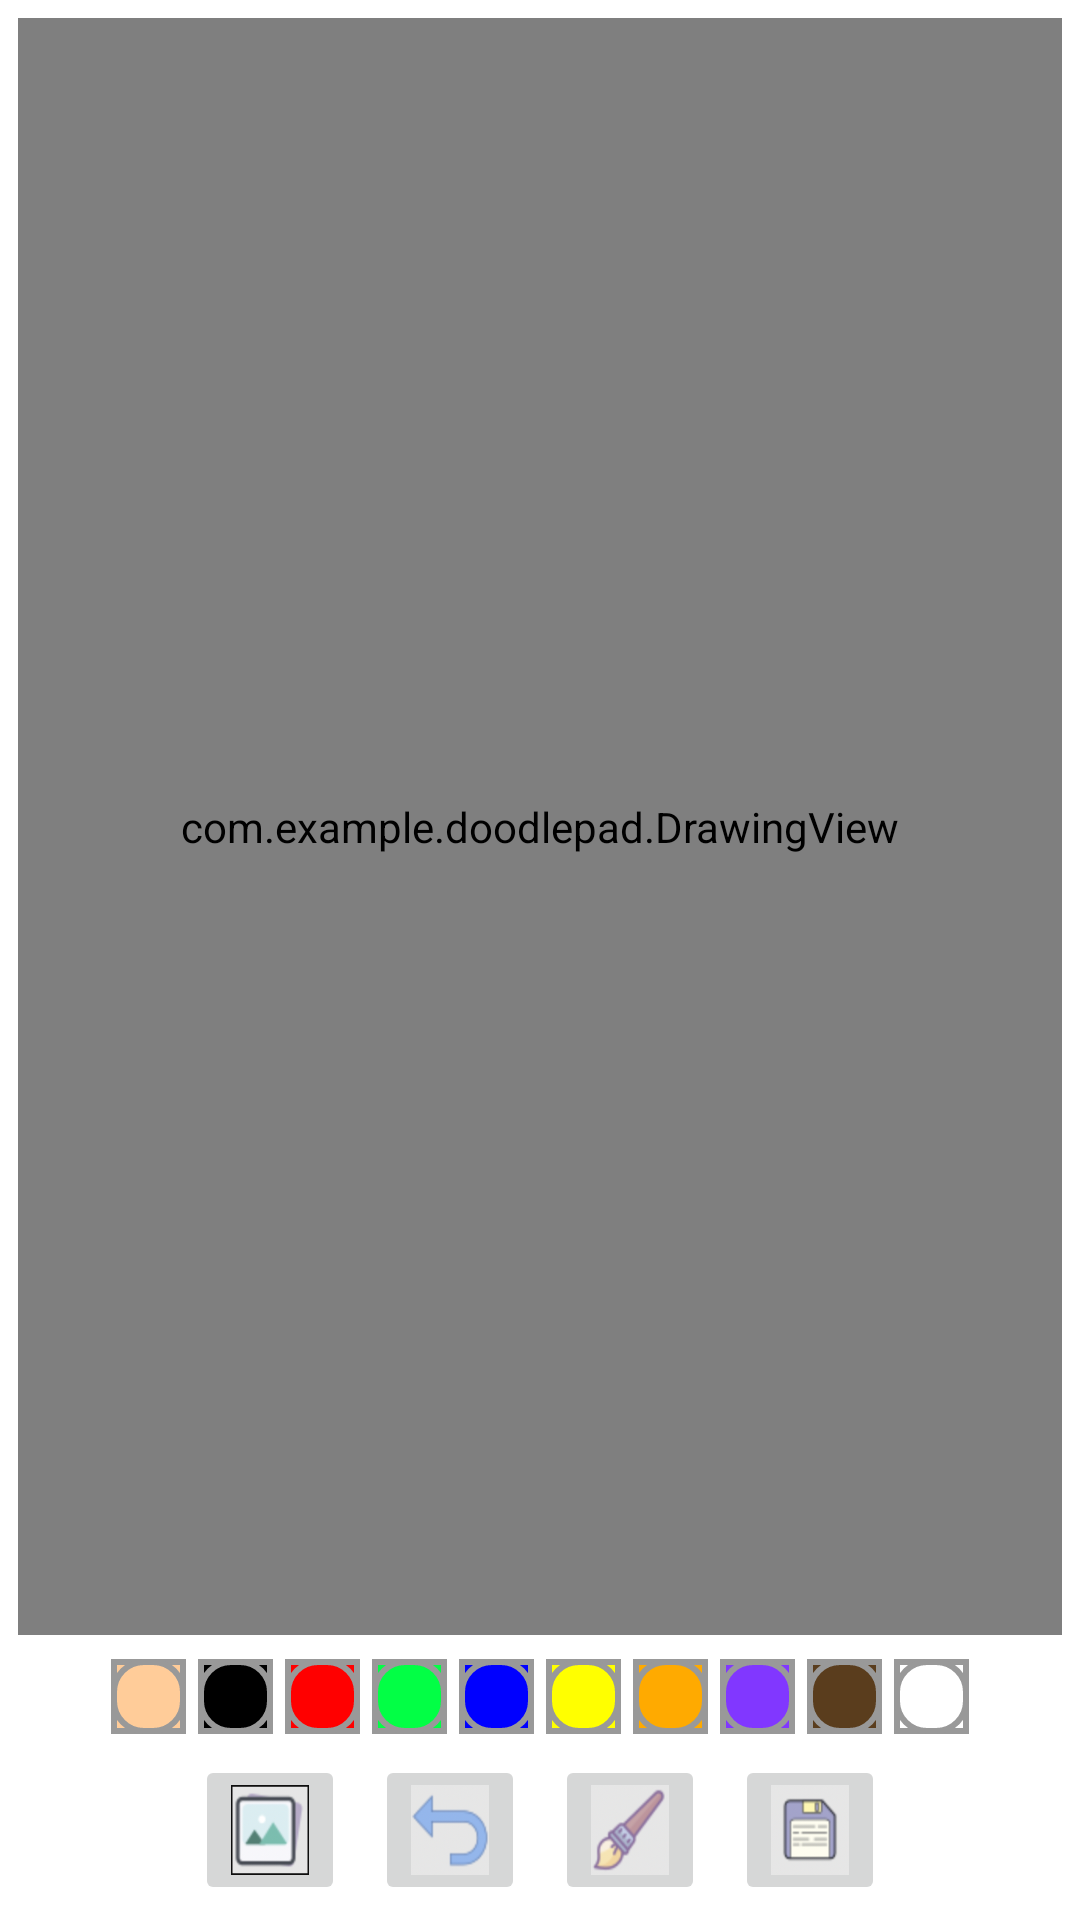

Named icons in this screenshot (1080w x 1920h) and their centers, (x=x, y=y):
brush: (x=630, y=1830)
gallery: (x=270, y=1830)
save: (x=810, y=1830)
undo: (x=450, y=1830)
